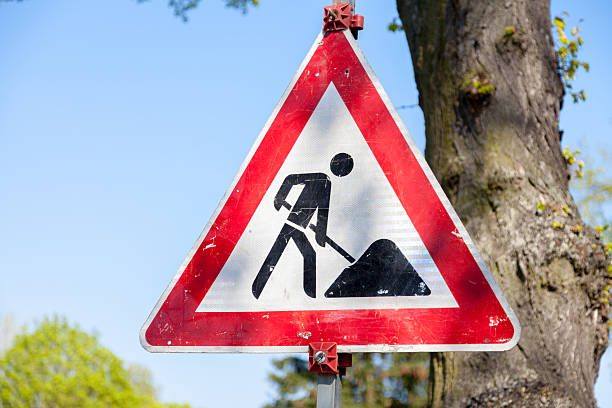yol_calismasi_levha: (129, 13, 527, 357)
